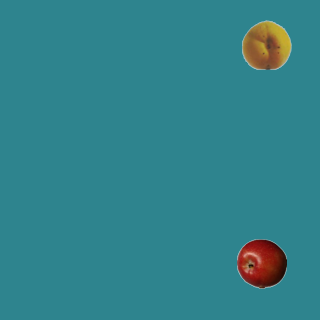Apple Braeburn: (236, 238, 286, 288)
Peach 2: (241, 19, 291, 69)
